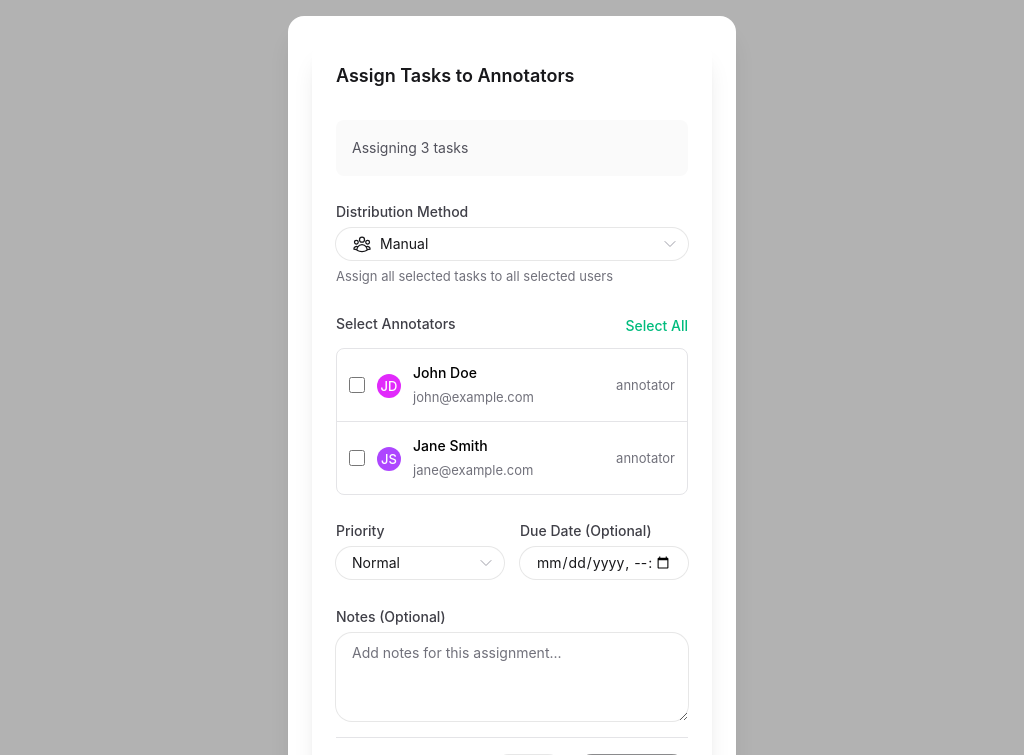
TaskAssignmentModal › handles select all functionality
Click the button "Select All".
click(657, 326)  # box [625,317,688,335]
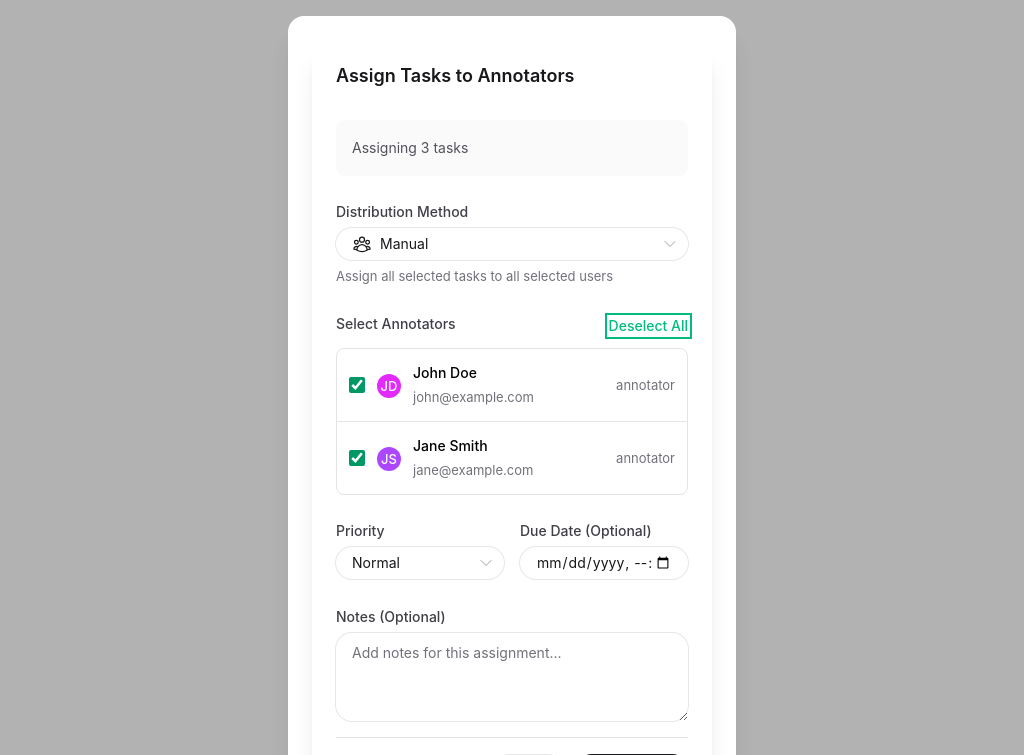
Now the 1st checkbox is checked, box [349,377,365,393]
Now the checkbox next to "JS" is checked, box [349,450,365,466]
Click the button "Deselect All".
click(648, 326)  # box [609,317,688,335]
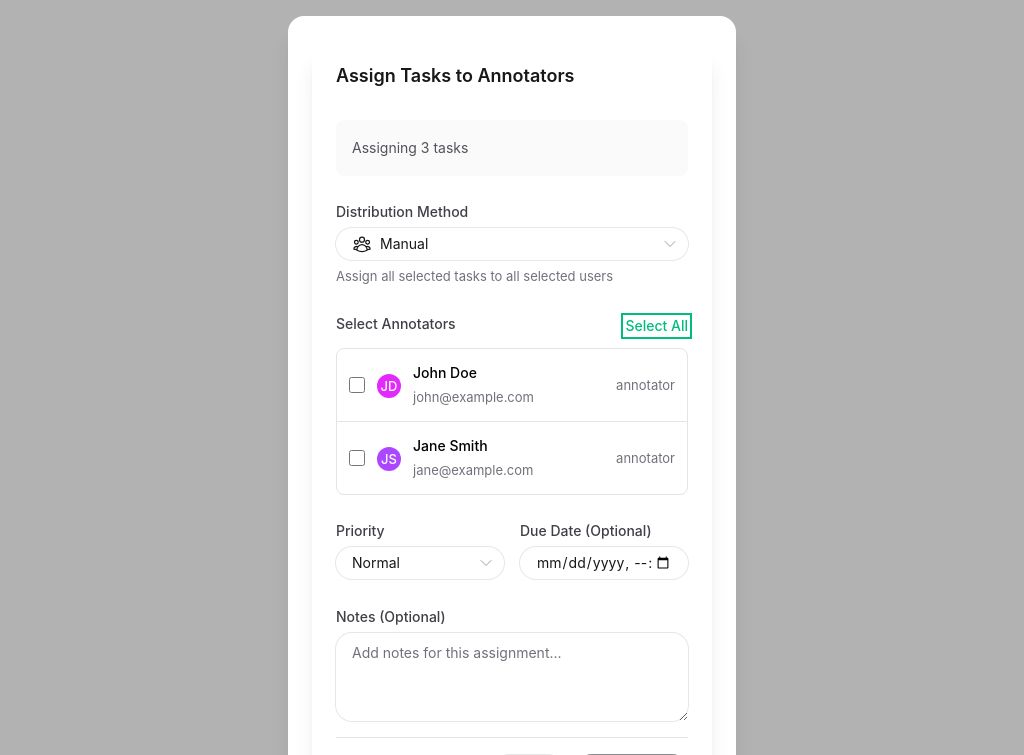
Now the 1st checkbox is not checked, box [349,377,365,393]
Now the checkbox next to "JS" is not checked, box [349,450,365,466]
